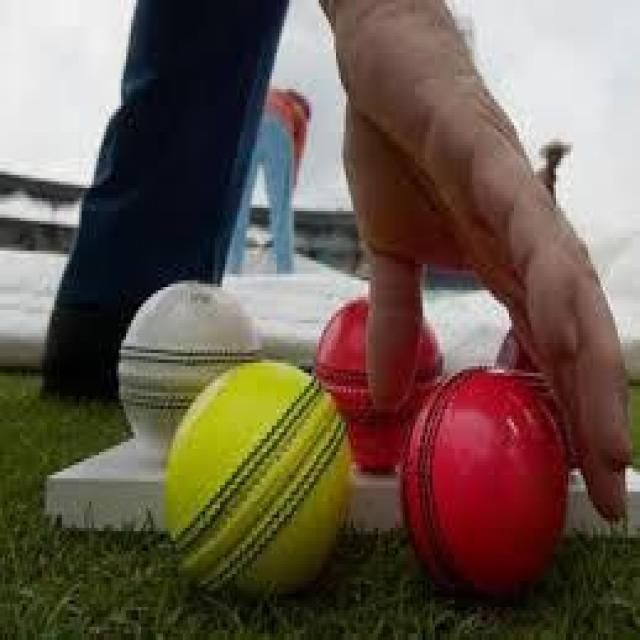ball: (165, 363, 356, 594), (403, 373, 571, 594), (118, 280, 260, 452), (314, 297, 447, 472)
